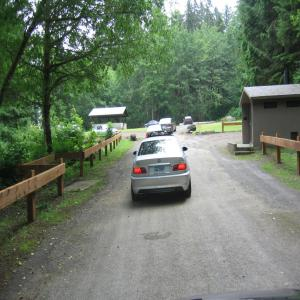Vehicle-registration-plate: (155, 167, 167, 175), (163, 126, 166, 129)
